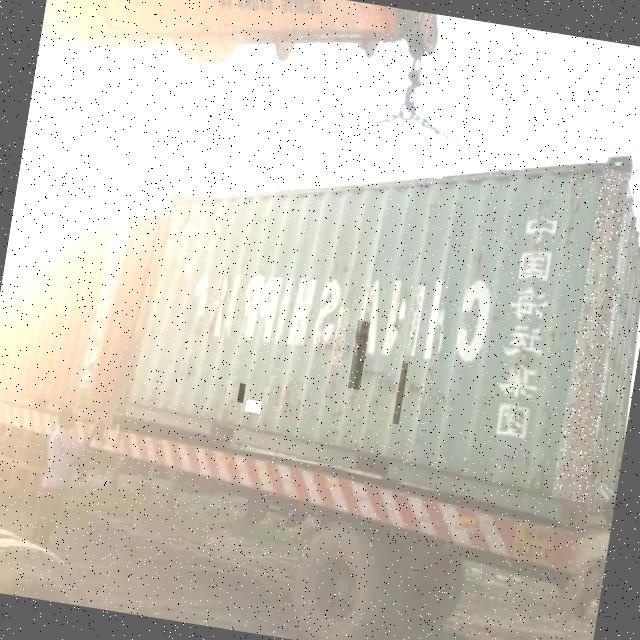Rust: (551, 169, 639, 503), (348, 320, 371, 390), (331, 307, 350, 366), (393, 363, 409, 425), (245, 400, 262, 414), (237, 383, 246, 403)
